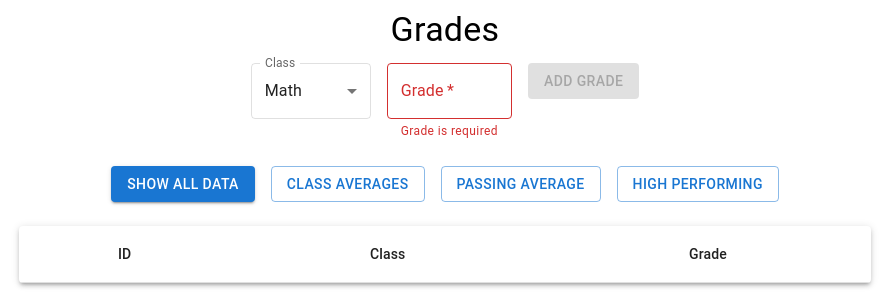
Test: GradesPage › enables Add Grade when valid grade entered
Type "85" into the number field labelled "Grade *".
click(449, 91); type("85")  # box [387,63,512,119]
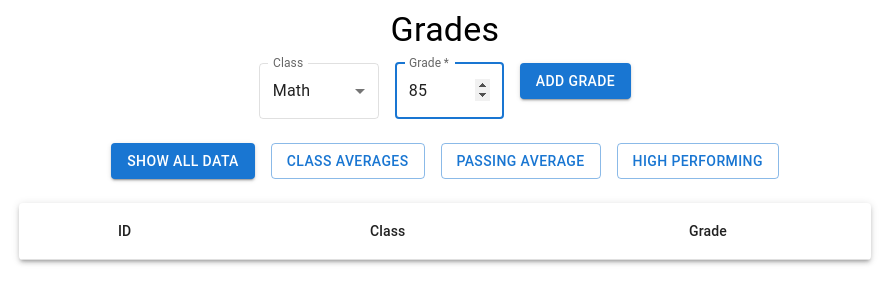
Check: the text "Grade is required" is gone
Check: the button "Add Grade" is enabled, box [520,63,631,99]
